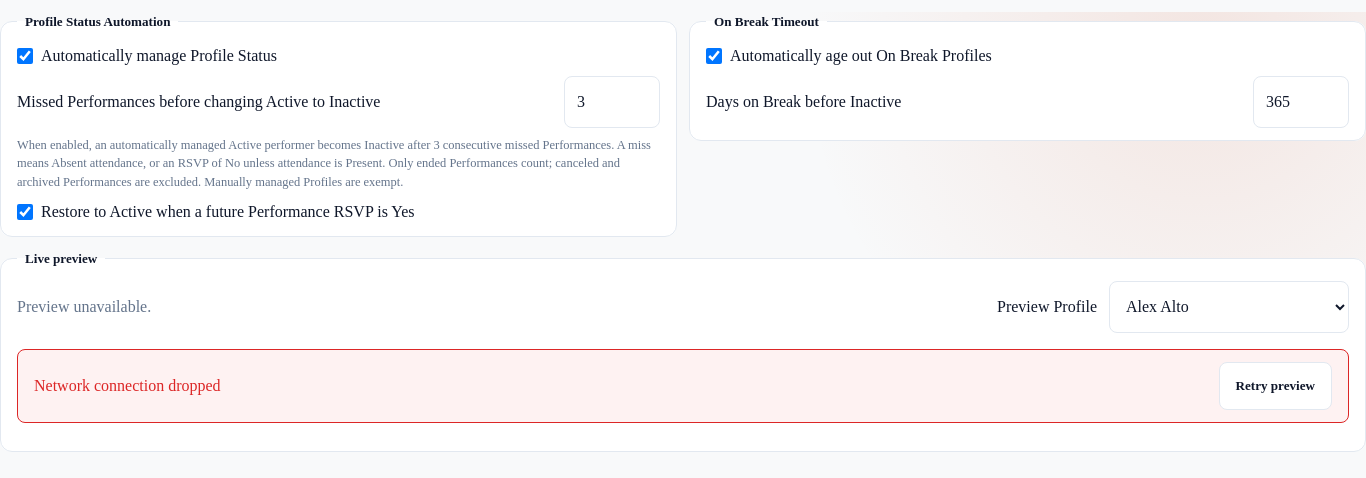
Test: RosterAutomationSettings UI › displays actionable role=alert banner on preview failure and recovers via retry
Expected: the message "Network connection dropped Retry preview" is shown, x1=17 y1=348 x2=1349 y2=422
Expected: the text "Preview unavailable." is shown, x1=17 y1=298 x2=151 y2=314
Step 1. Click the button "Retry preview" → (1275, 386), box x1=1218 y1=362 x2=1332 y2=410
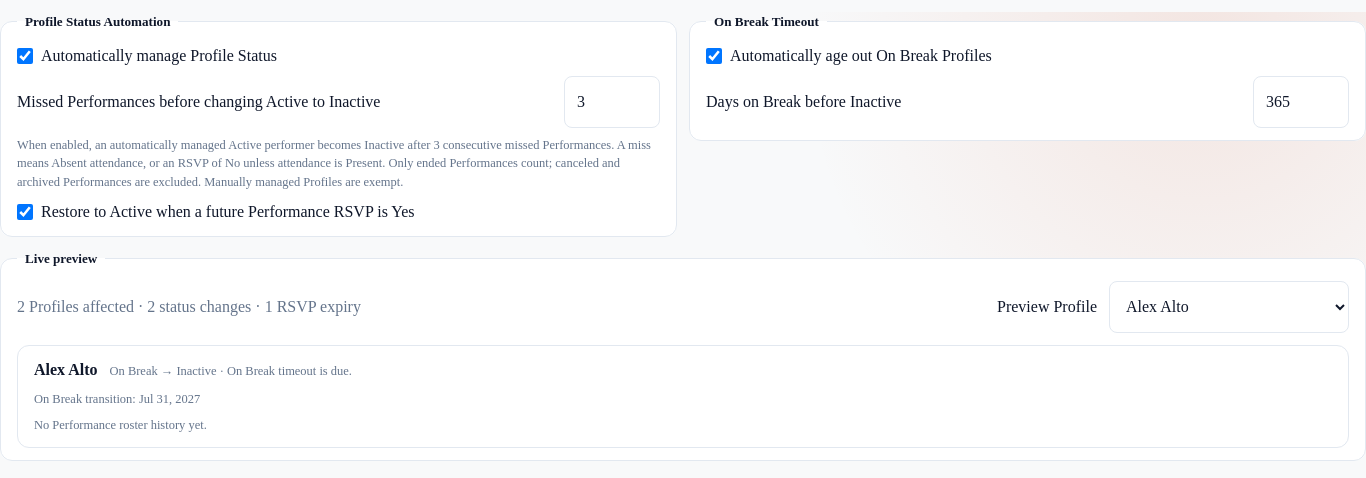
Result: the text "2 Profiles affected · 2 status changes · 1 RSVP expiry" is shown at x1=17 y1=298 x2=361 y2=314
Result: the message "Network connection dropped Retry preview" is gone
